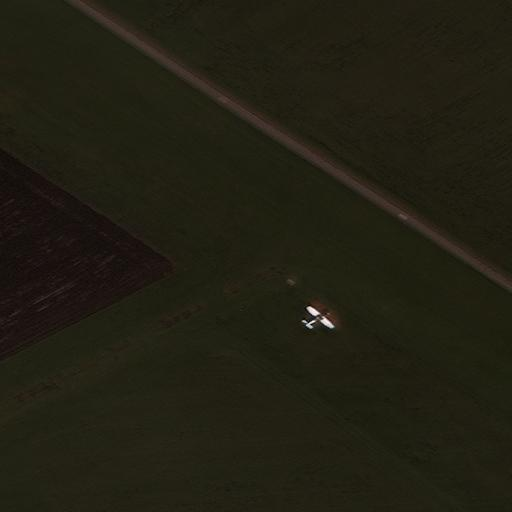Small Civil Transport: (304, 305, 335, 326)
